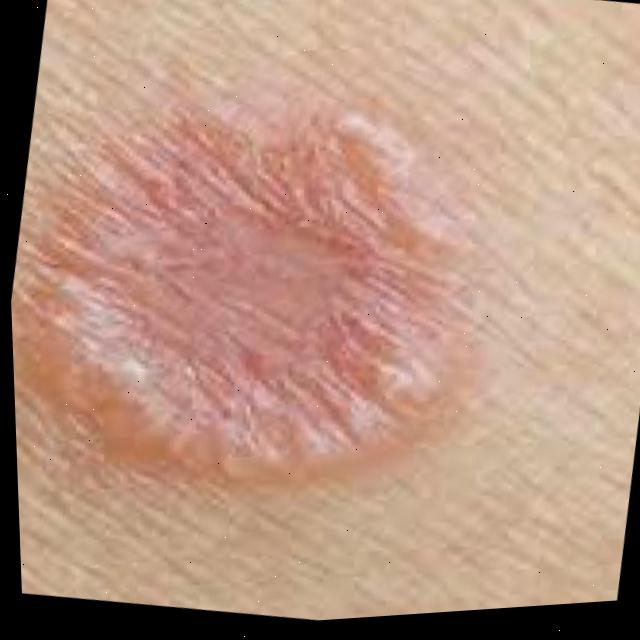Eczema: (81, 108, 470, 505)
